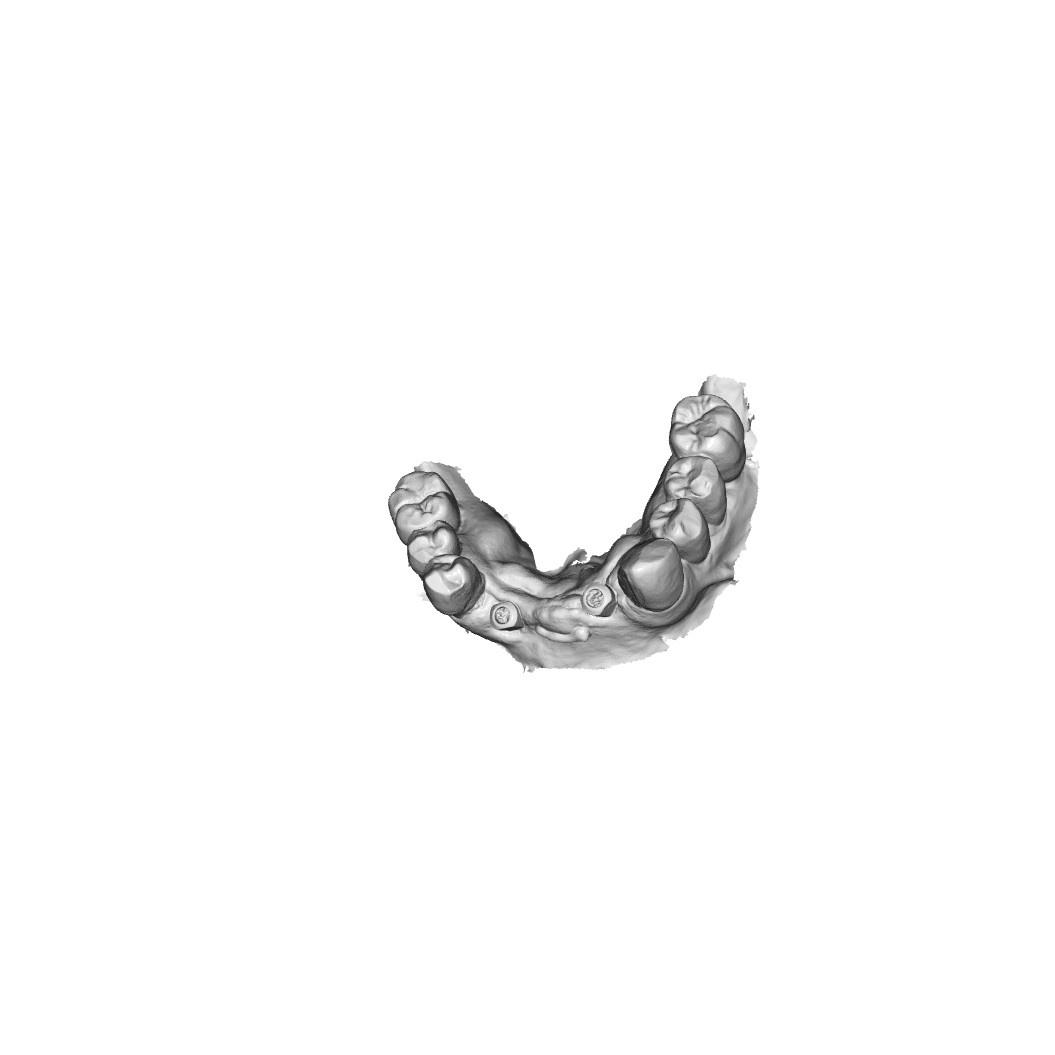canine: (618, 538, 686, 614)
implant: (486, 602, 526, 629), (585, 583, 615, 616)
molar: (666, 394, 747, 481), (386, 466, 466, 544)
premolar: (659, 454, 727, 525), (645, 501, 711, 562), (421, 556, 481, 617), (406, 520, 462, 577)
